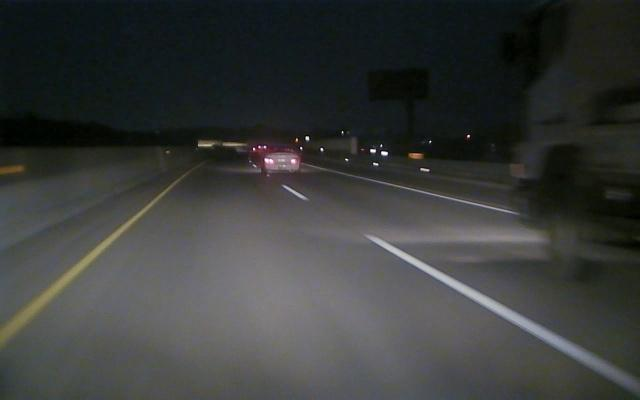lane: (284, 183, 639, 393), (3, 189, 167, 347), (341, 171, 519, 216)
